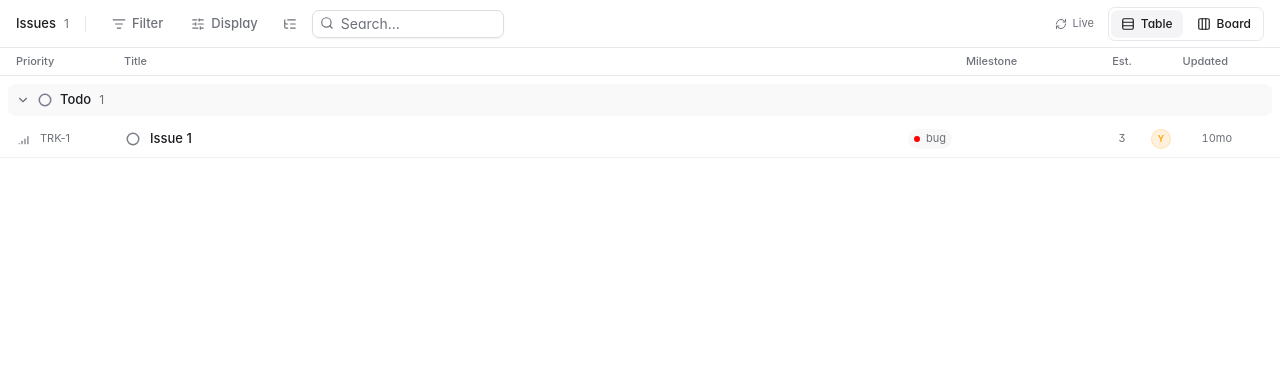
it: inline edit in the table › changes the status optimistically with the row's updatedAt as the concurrency token
This screenshot has width=1280, height=375.
Click the button named "Change status of TRK-1". click: (133, 138)
box: [124,130,142,148]
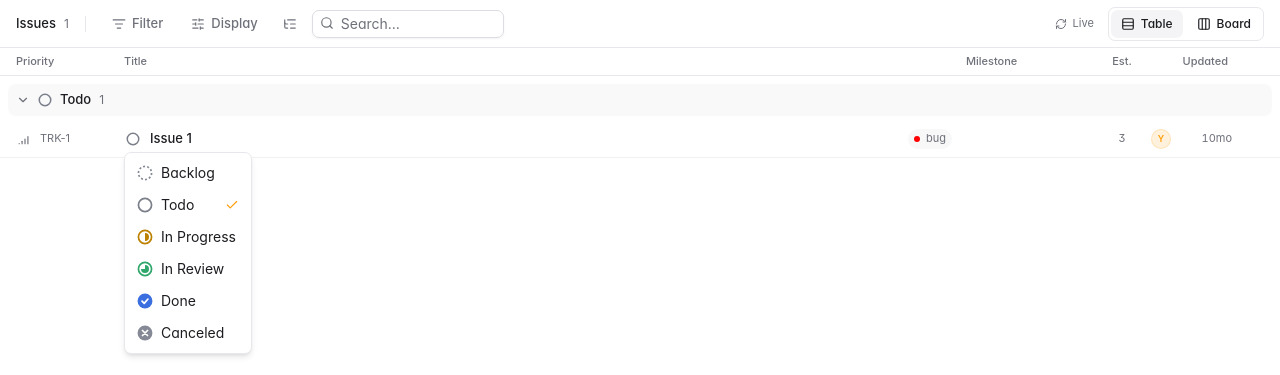
Click the menu item "In Progress". click: (186, 236)
box: [137,228,236,245]
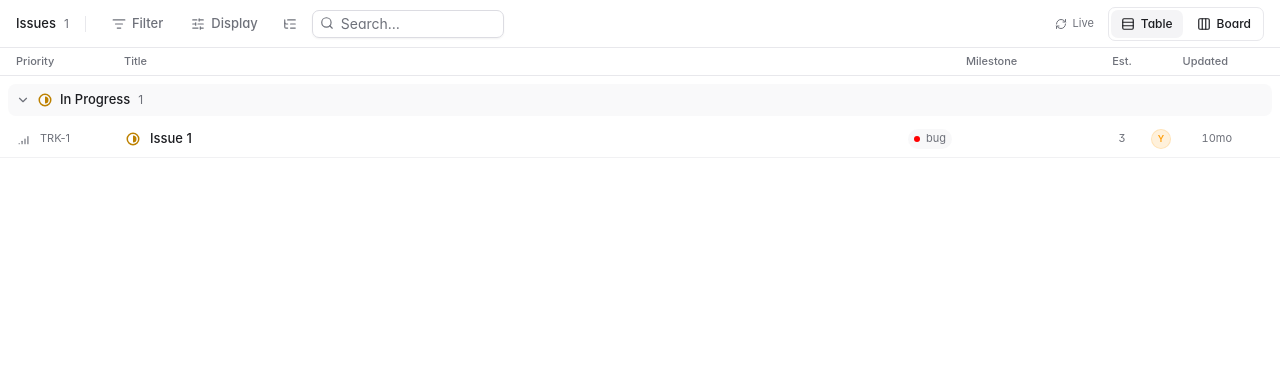
Expected: the text with test id "count-in_progress" reads "1", [138,92,143,107]
Expected: the text with test id "count-todo" is gone
